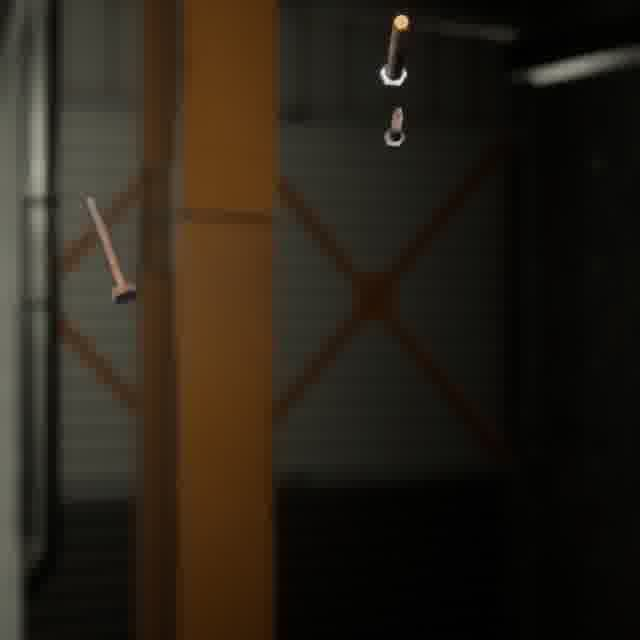bolt: (79, 191, 142, 308), (375, 11, 413, 92), (379, 103, 409, 152)
